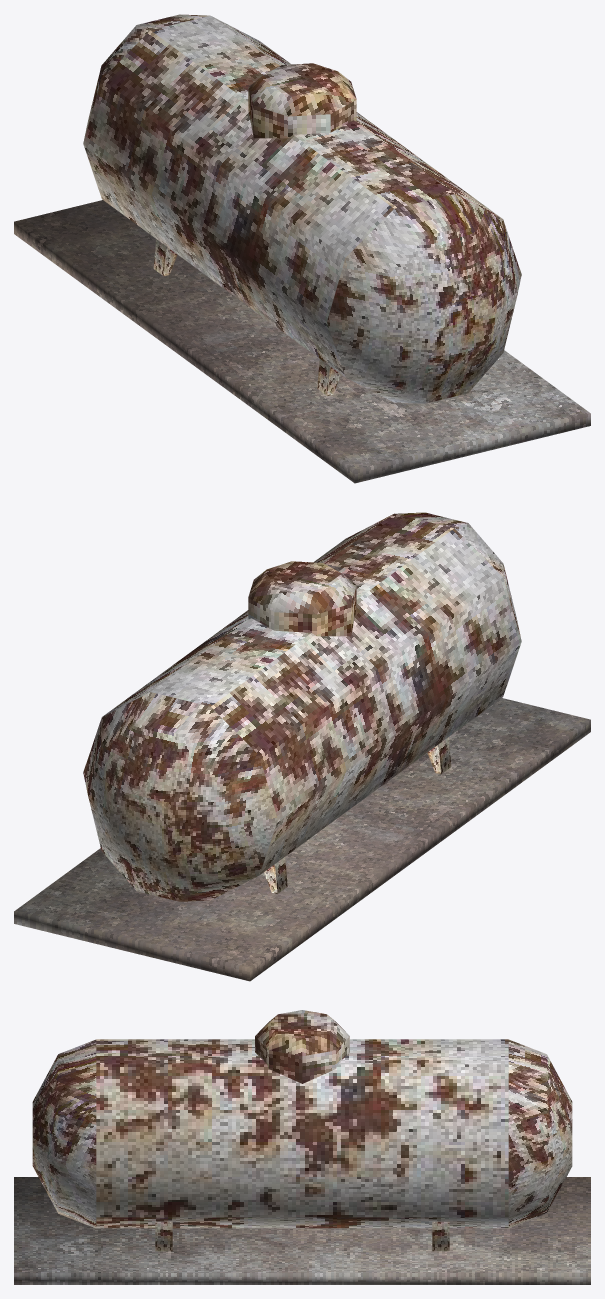
File: propane_tank.glb
3 views of the same model, one above another, from view 1: azimuth 30°, elevation 25°; view 2: azimuth 150°, elevation 25°; view 3: azimuth 270°, elevation 25° (orthographic). The views are drawn at different scales.
Parts seen in each view (by area): view 1: PropaneTank; view 2: PropaneTank; view 3: PropaneTank.
Part boxes in pixels (<box>): PropaneTank: <box>14,14,590,483</box>; PropaneTank: <box>14,512,590,981</box>; PropaneTank: <box>14,1010,590,1284</box>.
Size of the model in its own units: 2 by 2.02 by 5.
1 material, 1 textured.
